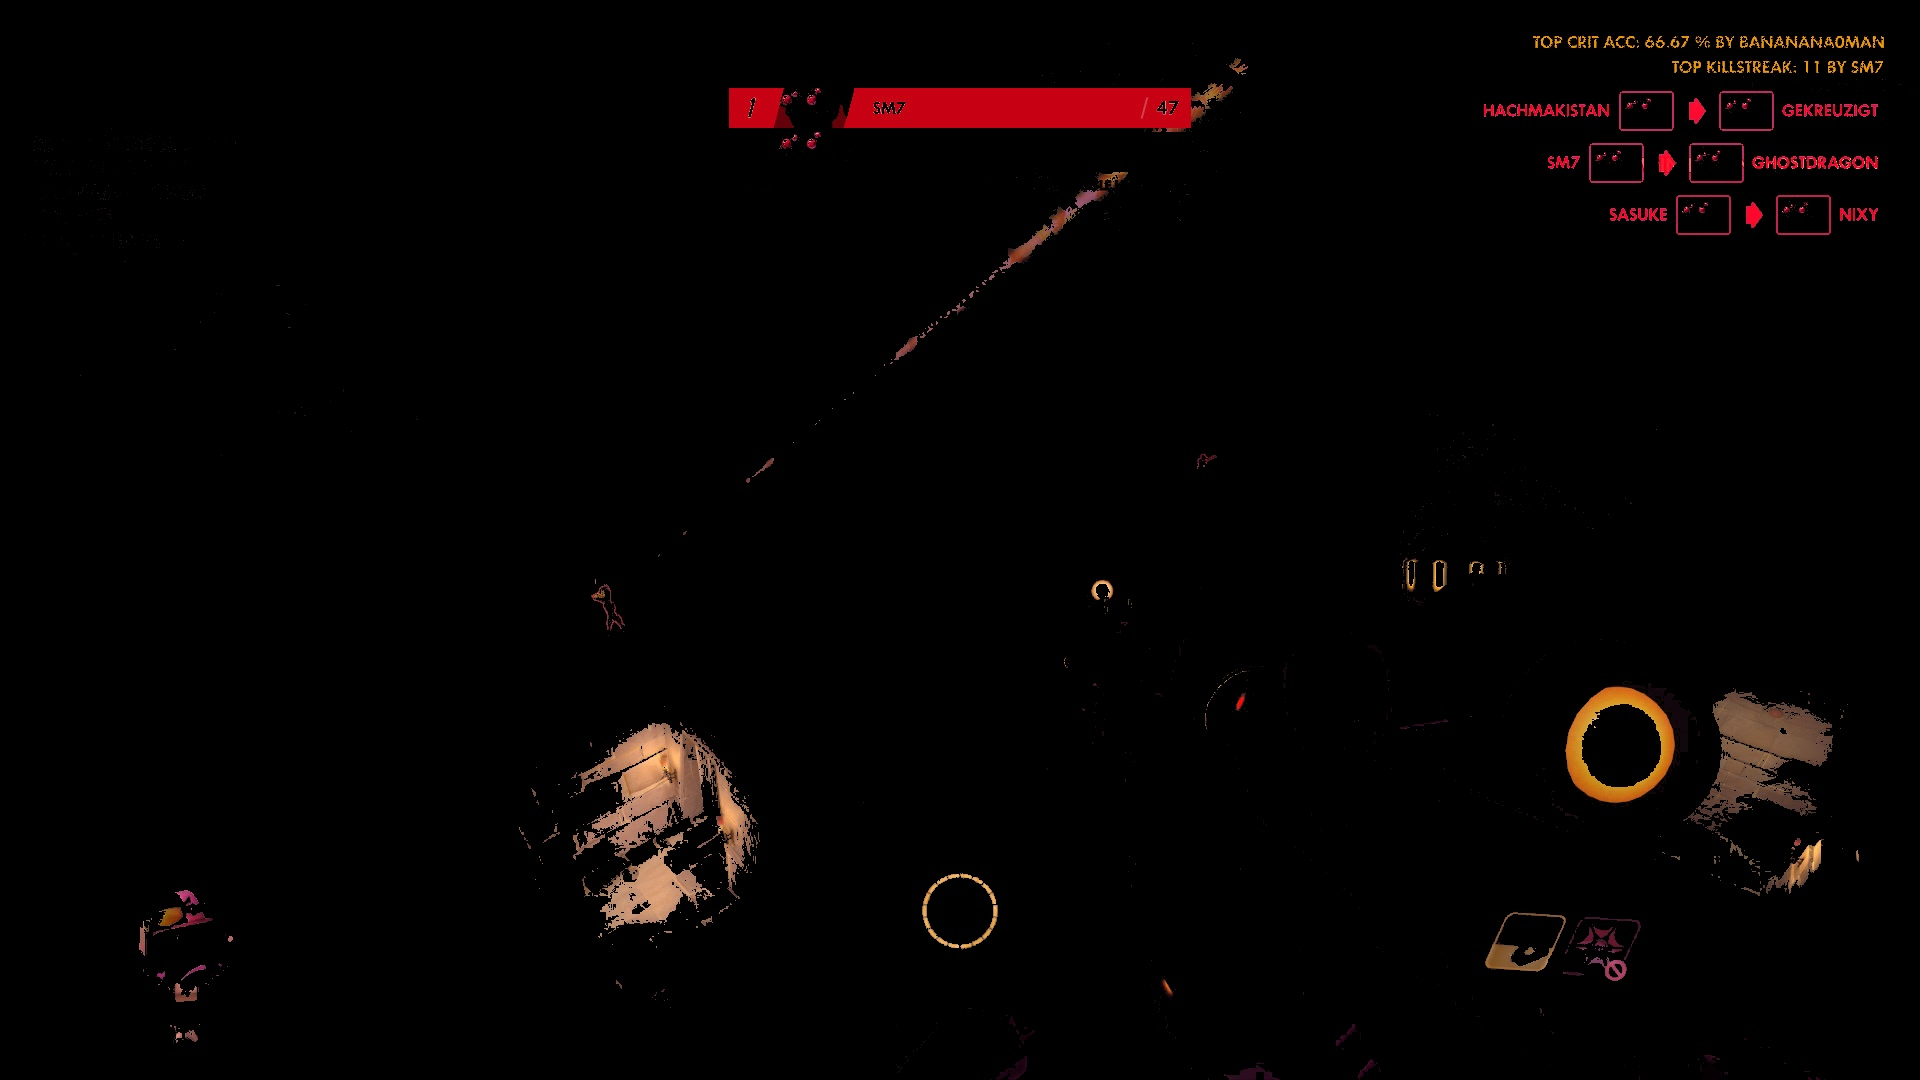widowmaker: (589, 582, 630, 641), (1192, 448, 1222, 473)
